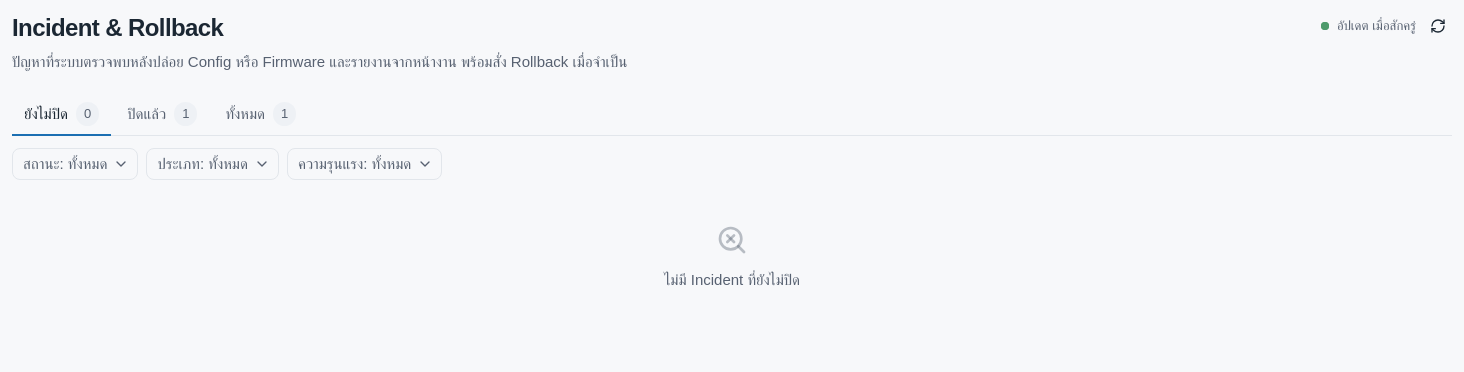
it: IncidentsView: แท็บ ยังไม่ปิด / ปิดแล้ว / ทั้งหมด › เลือกสถานะเจาะจงในตัวกรอง: แสดงสถานะนั้นตรงๆ และแท็บปิดไว้
Check: the text "เรื่องที่จบแล้ว" is not shown
Step 1. Click the dropdown labelled "สถานะ: ทั้งหมด ▼" → (75, 164), box [12, 148, 138, 180]
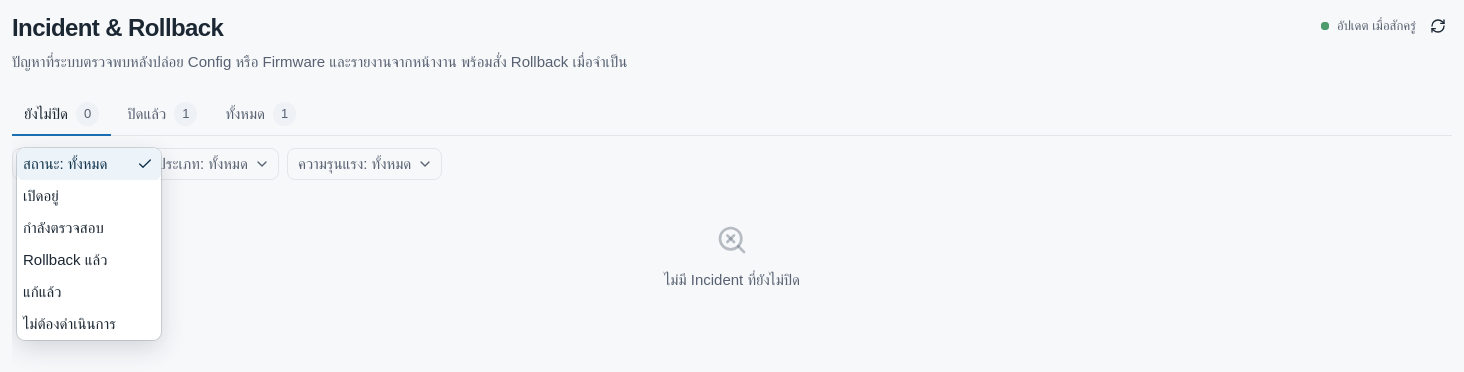
Step 2. Click the option "แก้แล้ว" → (42, 292), box [23, 283, 62, 300]
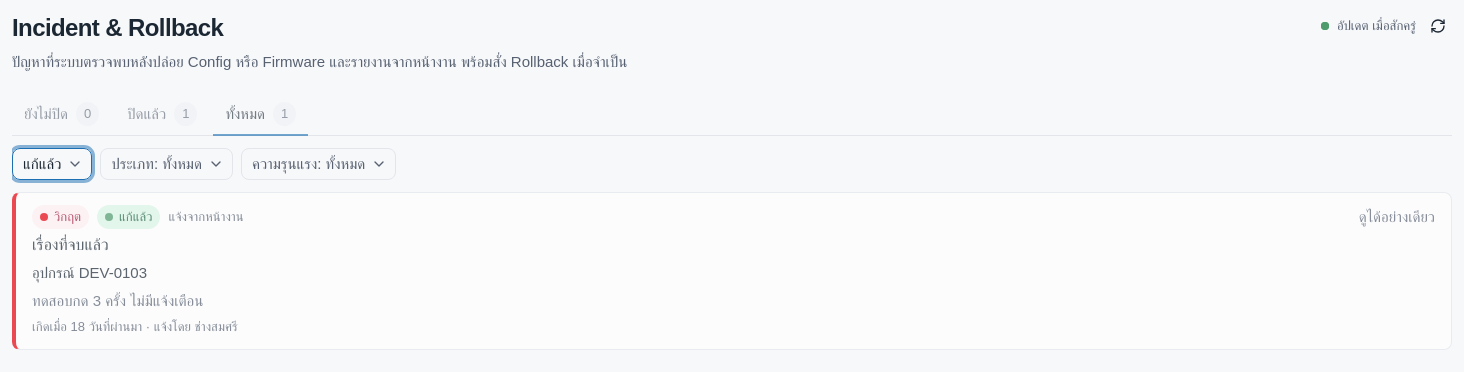
Check: the link "เรื่องที่จบแล้ว" is shown, box [32, 236, 109, 253]
Check: the button "ยังไม่ปิด 0" is disabled, box [12, 94, 111, 136]
Check: the button "ปิดแล้ว 1" is disabled, box [115, 94, 209, 136]
